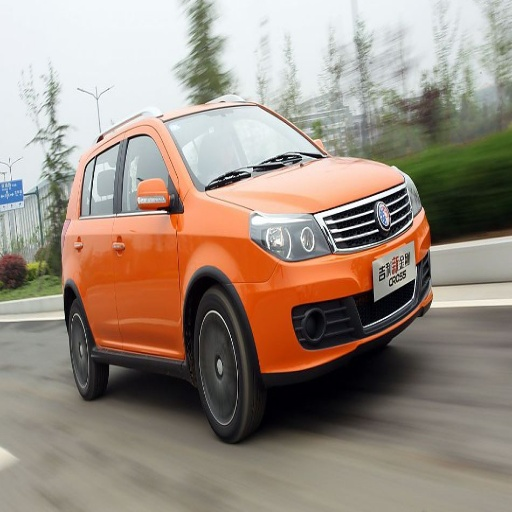front_bumper: (238, 186, 429, 382)
front_right_door: (114, 124, 178, 354)
front_right_light: (250, 214, 334, 261)
